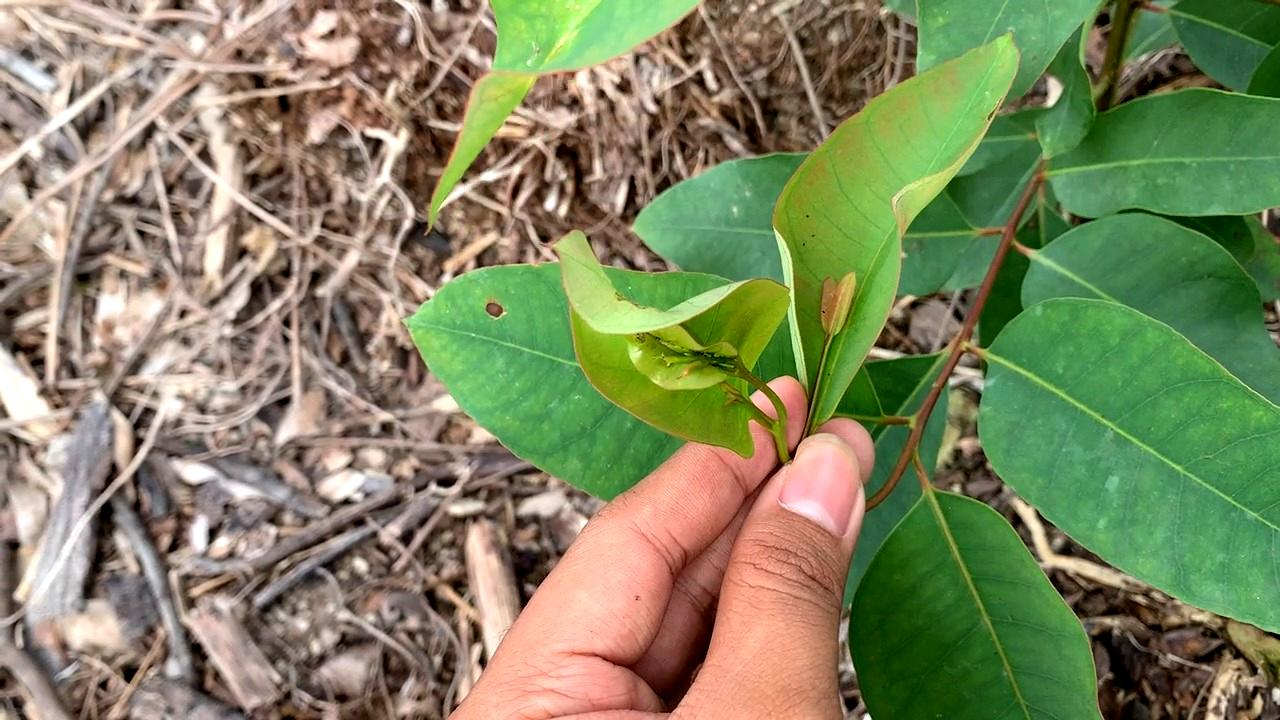Leaf Roller - Leaf: (554, 228, 789, 465)
